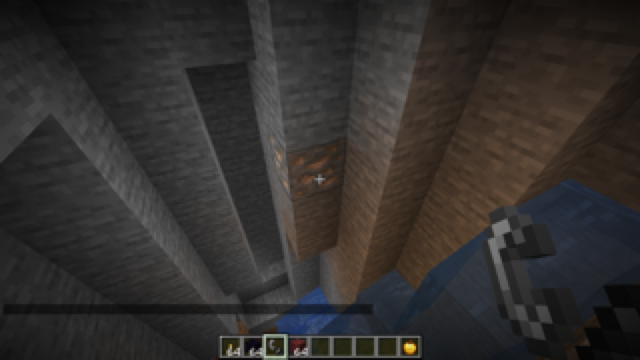iron: (267, 128, 348, 201)
